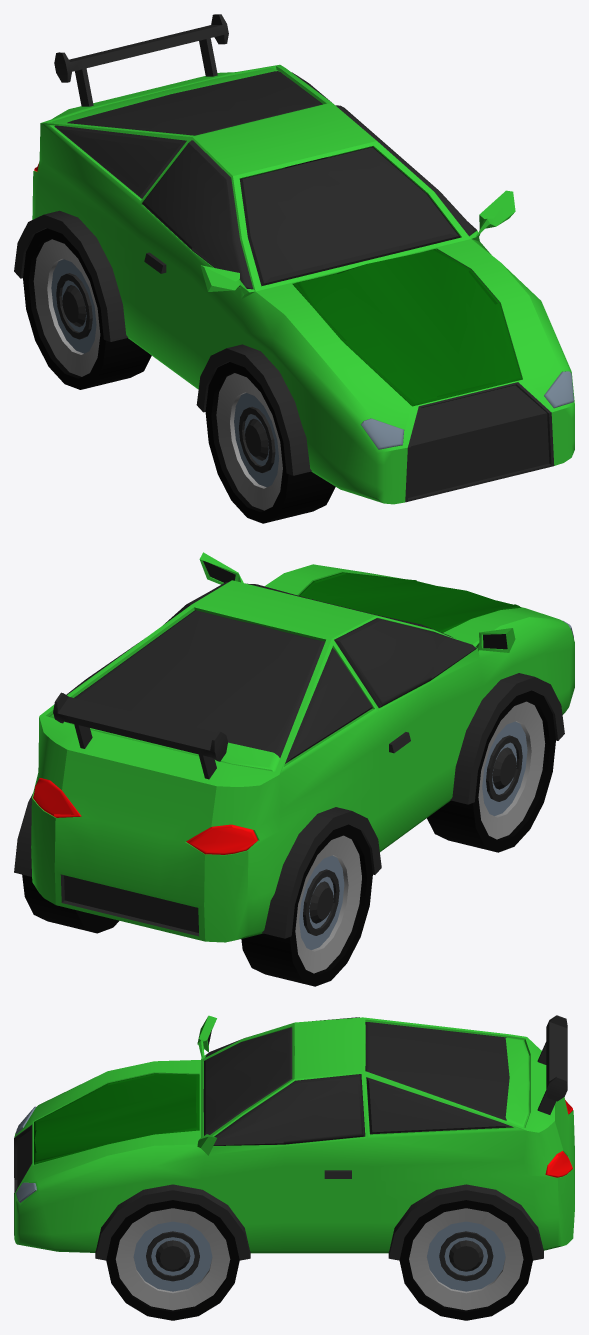
Rendered from CarTest2.fbx.
3 renders of one model, top to bottom at view 1: azimuth 30°, elevation 25°; view 2: azimuth 150°, elevation 25°; view 3: azimuth 270°, elevation 25°, orthographic. The views are drawn at different scales.
Parts seen in each view (by area): view 1: Cube.002, Circle.003, Circle.006, Cube.003; view 2: Cube.002, Circle.006, Circle.003, Cube.003, Circle.005; view 3: Cube.002, Circle.005, Circle.002, Cube.003.
Part boxes in pixels (bbox=[...]): Cube.002: bbox=[14, 64, 574, 504]; Circle.003: bbox=[205, 362, 335, 523]; Circle.006: bbox=[23, 228, 151, 389]; Cube.003: bbox=[54, 14, 228, 106]; Cube.002: bbox=[14, 552, 574, 942]; Circle.006: bbox=[241, 824, 372, 986]; Circle.003: bbox=[427, 690, 555, 852]; Cube.003: bbox=[53, 692, 227, 779]; Circle.005: bbox=[22, 874, 119, 933]; Cube.002: bbox=[14, 1015, 574, 1260]; Circle.005: bbox=[399, 1200, 532, 1320]; Circle.002: bbox=[106, 1200, 239, 1320]; Cube.003: bbox=[537, 1015, 567, 1114].
Bounding box in the file's own units: 429 × 369 × 840.
